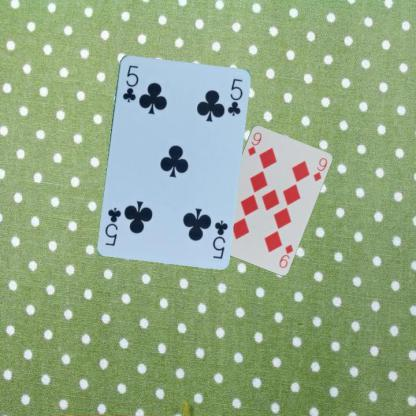5c: (119, 63, 140, 104), (210, 217, 229, 260)
9d: (245, 130, 263, 158), (276, 242, 294, 270)
